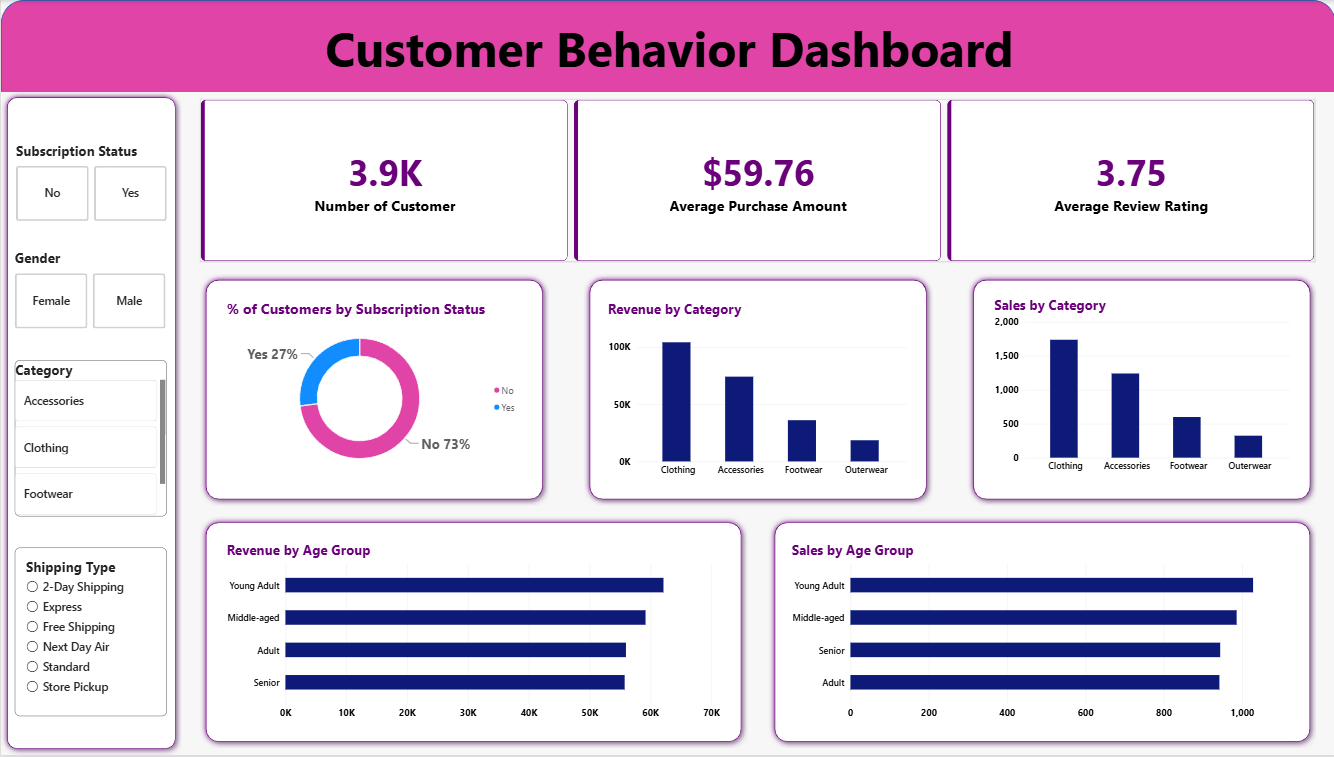

Layout of this report page (visuals, bound fields, positions):
{"tool":"powerbi","page":{"name":"Page 1","canvas":[2000,1132],"ordinal":0},"visuals":[{"type":"shape","box":[297.6,773.2,820.6,347.2],"z":0},{"type":"shape","box":[872.4,410.3,523,347.2],"z":1000},{"type":"shape","box":[1447.3,410.3,523,347.2],"z":2000},{"type":"cardVisual","fields":{"Data":["public customer.Number od customer","public customer.Average perchase amount","public customer.Average review rating"]},"box":[297.6,148.8,1672.7,245.7],"z":3000},{"type":"shape","box":[0,0,1999.6,137.5],"z":4000},{"type":"textbox","box":[63.1,22.5,1875.6,115],"z":5000},{"type":"shape","box":[297.6,410.3,523,347.2],"z":6000},{"type":"donutChart","title":"% of Customers by Subscription Status","fields":{"Category":["public customer.subscription_status"],"Y":["CountNonNull(public customer.customer_id)"]},"box":[322.4,432.8,473.4,299.8],"z":7000},{"type":"clusteredColumnChart","title":"Revenue by Category","fields":{"Y":["Sum(public customer.purchase_amount)"],"Category":["public customer.category"]},"box":[892.7,435.1,480.2,299.8],"z":8000},{"type":"clusteredColumnChart","title":"Sales by Category","fields":{"Y":["CountNonNull(public customer.customer_id)"],"Category":["public customer.category"]},"box":[1472.1,428.3,475,299.8],"z":9000},{"type":"shape","box":[0,137.5,270.5,994.2],"z":10000},{"type":"advancedSlicerVisual","title":"Subscription Status","fields":{"Values":["public customer.subscription_status"]},"box":[22.5,211.9,227.7,119.5],"z":11000},{"type":"advancedSlicerVisual","title":"Gender","fields":{"Values":["public customer.gender"]},"box":[20.3,372,227.7,119.5],"z":12000},{"type":"advancedSlicerVisual","title":"Category","fields":{"Values":["public customer.category"]},"box":[20.3,538.8,227.7,234.4],"z":13000},{"type":"listSlicer","title":"Shipping Type","fields":{"Values":["public customer.shipping_type"]},"box":[20.3,820.6,227.7,252.5],"z":14000},{"type":"barChart","title":"Revenue by Age Group","fields":{"Y":["Sum(public customer.purchase_amount)"],"Category":["public customer.age_group"]},"box":[322.4,795.8,771,302.1],"z":15000},{"type":"shape","box":[1149.7,773.2,820.6,347.2],"z":16000},{"type":"barChart","title":"Sales by Age Group","fields":{"Y":["CountNonNull(public customer.customer_id)"],"Category":["public customer.age_group"]},"box":[1167.7,795.8,784.5,302.1],"z":17000}]}

Visuals, with their boxes in screenshot pixels (x1, y1, x2, y2), scaled from the page's 2000x1132 canvas onto the 1334x757 screenshot:
shape: <box>198,517,746,749</box>
shape: <box>582,274,931,507</box>
shape: <box>965,274,1314,507</box>
cardVisual - public customer.Number od customer x public customer.Average perchase amount: <box>198,100,1314,264</box>
shape: <box>0,0,1333,92</box>
textbox: <box>42,15,1293,92</box>
shape: <box>198,274,547,507</box>
"% of Customers by Subscription Status" donutChart: <box>215,289,531,490</box>
"Revenue by Category" clusteredColumnChart: <box>595,291,916,491</box>
"Sales by Category" clusteredColumnChart: <box>982,286,1299,487</box>
shape: <box>0,92,180,756</box>
"Subscription Status" advancedSlicerVisual: <box>15,142,167,222</box>
"Gender" advancedSlicerVisual: <box>14,249,165,329</box>
"Category" advancedSlicerVisual: <box>14,360,165,517</box>
"Shipping Type" listSlicer: <box>14,549,165,718</box>
"Revenue by Age Group" barChart: <box>215,532,729,734</box>
shape: <box>767,517,1314,749</box>
"Sales by Age Group" barChart: <box>779,532,1302,734</box>
